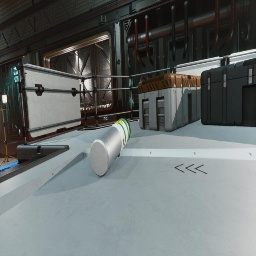0: (90, 118, 131, 177)
SafetySwitchPanel ,: (25, 81, 27, 100)
